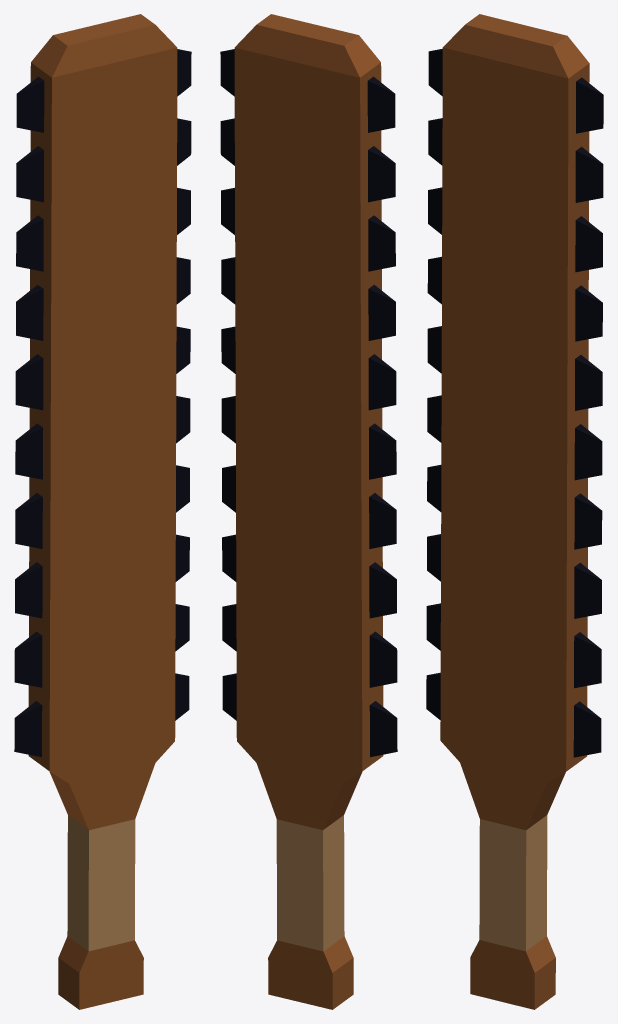
File: Low Poly Weapon Pack - by Kickin It Studios.fbx_Macuahuitl.glb
3 views of the same model, side by side, from view 1: azimuth 30°, elevation 25°; view 2: azimuth 150°, elevation 25°; view 3: azimuth 330°, elevation 25° (orthographic).
Parts seen in each view (by area): view 1: Macuahuitl; view 2: Macuahuitl; view 3: Macuahuitl.
Part boxes in pixels (box(x1,y1,x2,y2)): Macuahuitl: box(14, 14, 191, 1009); Macuahuitl: box(220, 14, 397, 1009); Macuahuitl: box(426, 14, 603, 1009).
Size of the model in its own units: 0.2365 by 1.23 by 0.0488.
